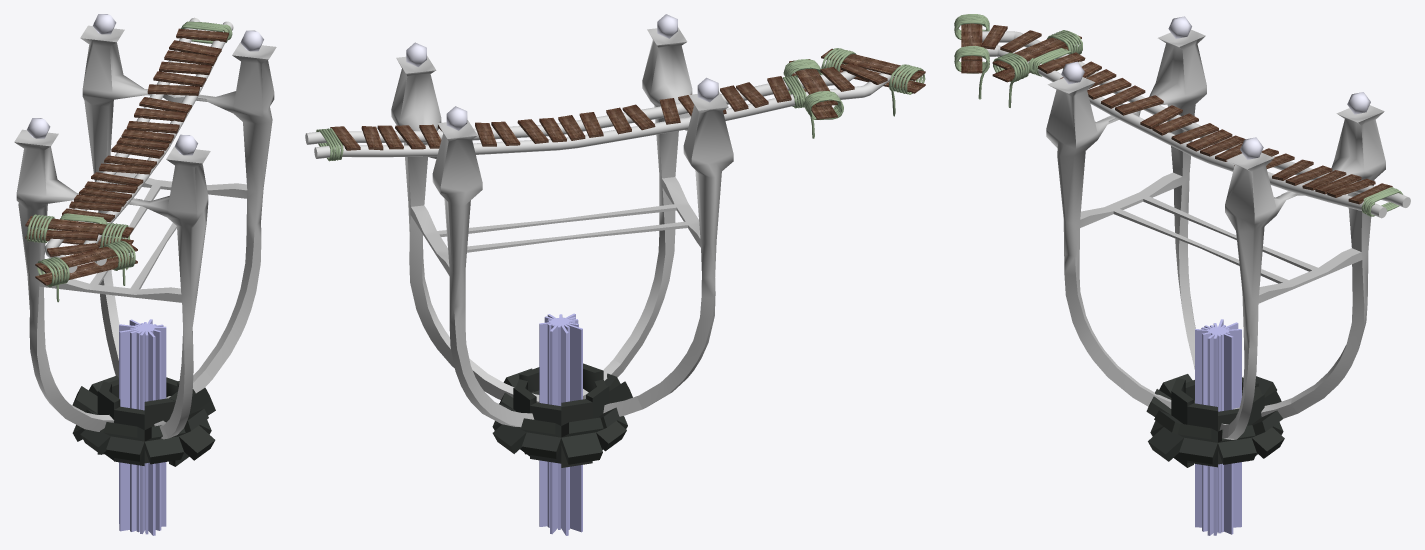
Rendered from 1_bridge_right.fbx.
3 renders of one model, left to right at view 1: azimuth 30°, elevation 25°; view 2: azimuth 150°, elevation 25°; view 3: azimuth 270°, elevation 25°, orthographic. The views are drawn at different scales.
Visible parts, largest first — view 1: 1_right_base, gravityring, 1_right_La, 1_right_verschlag, 1_right_verschlag_ropes, 1_right_La_c, 1_right_verschlag02, 1_right_verschlag02_ropes, 1_right_La_ropes; view 2: 1_right_base, gravityring, 1_right_La, 1_right_La_c, 1_right_verschlag_ropes, 1_right_verschlag, 1_right_verschlag02_ropes, 1_right_verschlag02, 1_right_La_ropes; view 3: 1_right_base, gravityring, 1_right_La, 1_right_La_c, 1_right_verschlag02_ropes, 1_right_verschlag_ropes, 1_right_La_ropes, 1_right_verschlag02, 1_right_verschlag.
Part boxes in pixels (x1,y1,x2,y2): 1_right_base: (14,14,276,439); gravityring: (72,319,215,535); 1_right_La: (62,17,233,236); 1_right_verschlag: (35,241,137,285); 1_right_verschlag_ropes: (37,240,135,302); 1_right_La_c: (44,230,106,272); 1_right_verschlag02: (25,216,133,247); 1_right_verschlag02_ropes: (26,214,129,270); 1_right_La_ropes: (60,21,232,235); 1_right_base: (391,14,733,427); gravityring: (492,313,632,535); 1_right_La: (305,76,808,158); 1_right_La_c: (820,63,893,99); 1_right_verschlag_ropes: (821,48,925,116); 1_right_verschlag: (821,48,925,93); 1_right_verschlag02_ropes: (783,59,843,138); 1_right_verschlag02: (789,59,837,119); 1_right_La_ropes: (316,75,806,161); 1_right_base: (1046,16,1385,439); gravityring: (1146,319,1284,535); 1_right_La: (1023,52,1410,218); 1_right_La_c: (981,25,1041,56); 1_right_verschlag02_ropes: (993,30,1082,107); 1_right_verschlag_ropes: (954,14,989,99); 1_right_La_ropes: (1028,47,1403,216); 1_right_verschlag02: (992,35,1081,82); 1_right_verschlag: (961,23,982,73).
Size of the model in its own units: 108 by 117 by 108.
Materials: 7 (1 with a texture image).
